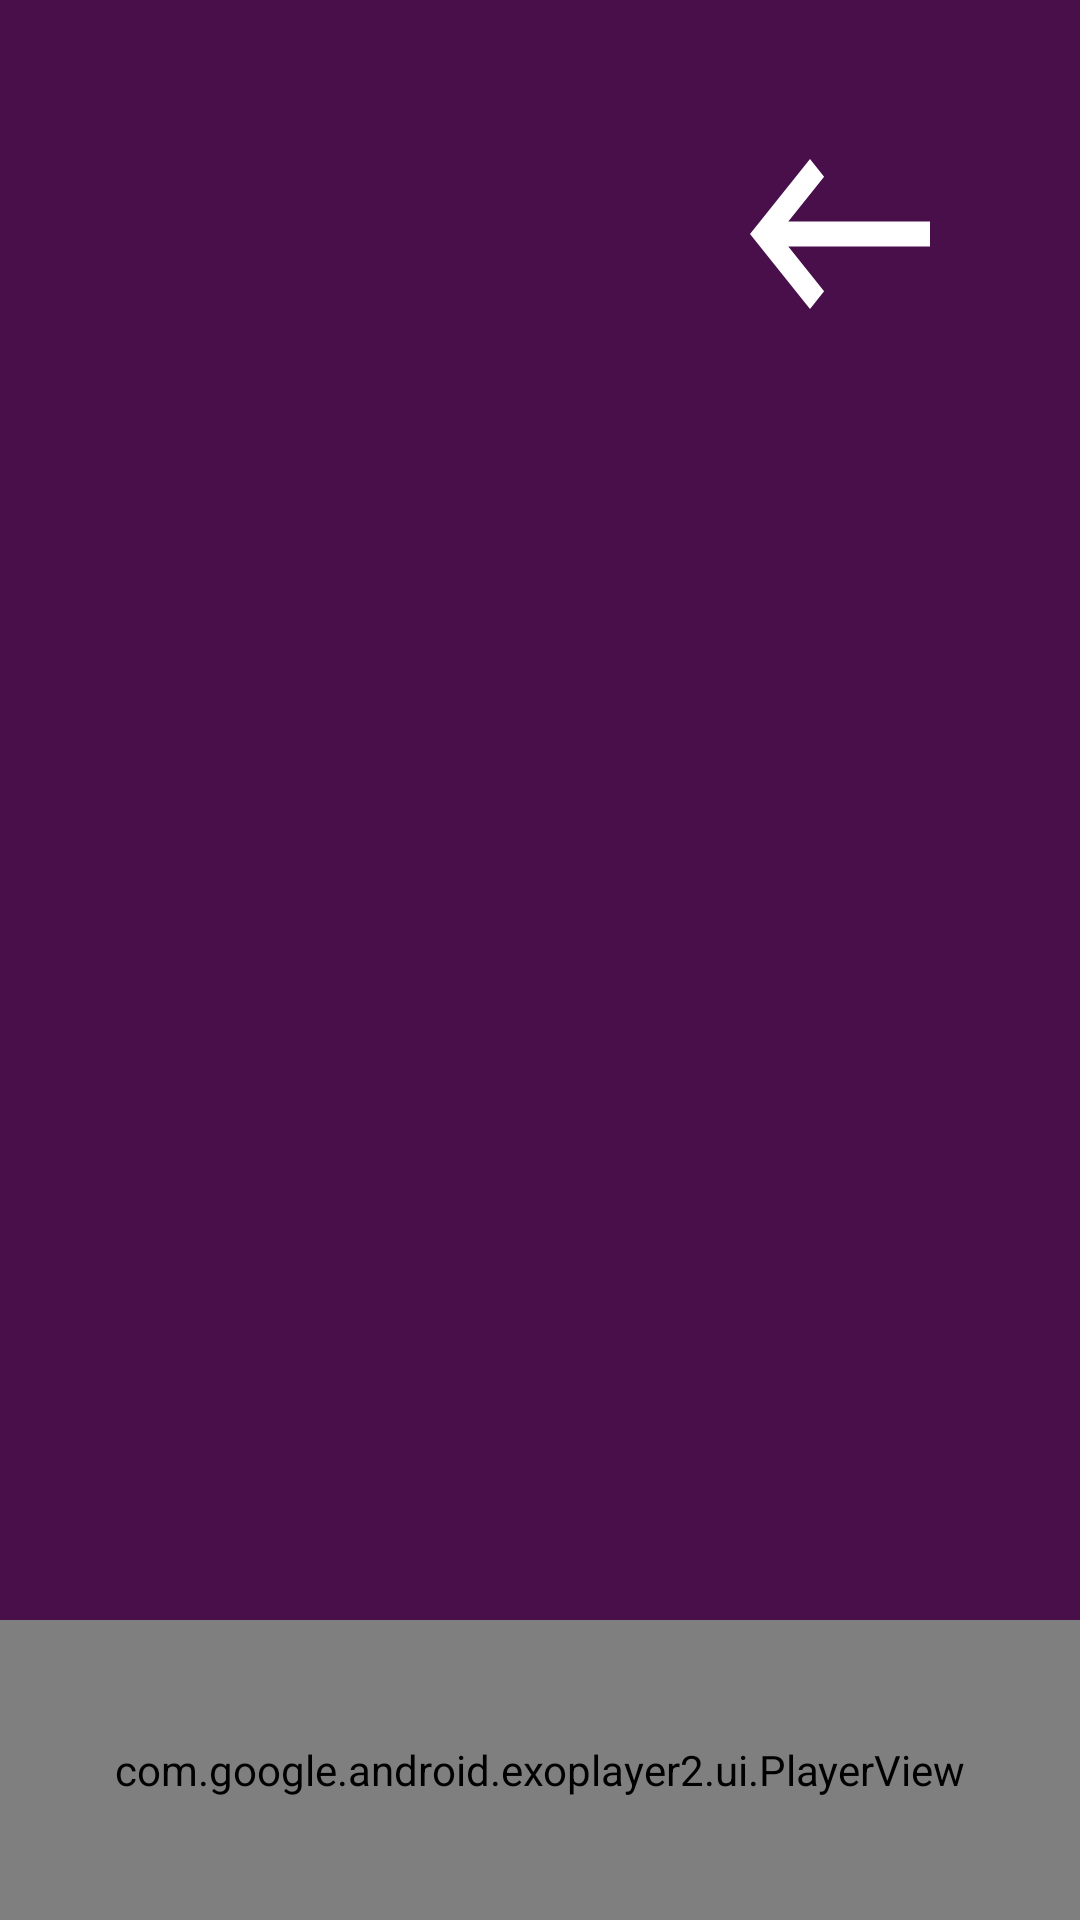

Screen size 1080 x 1920. Icon name, then its center in pixels as (x=x, y=y):
back: (x=840, y=234)
